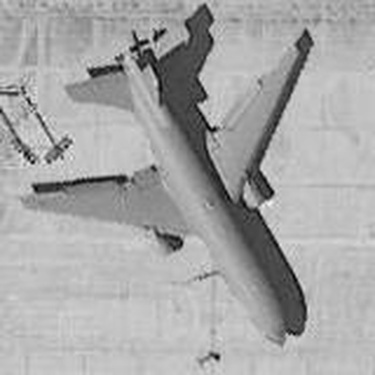airplane: (15, 8, 338, 353)
